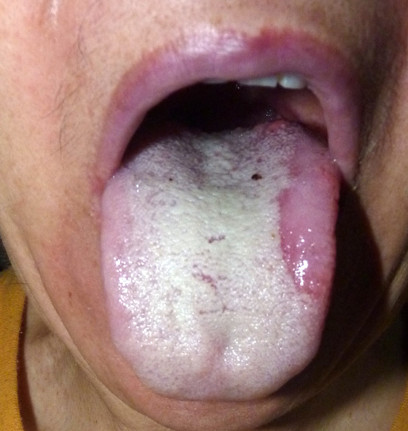botaishe: (271, 131, 340, 305)
huangtaishe: (99, 109, 339, 401)
